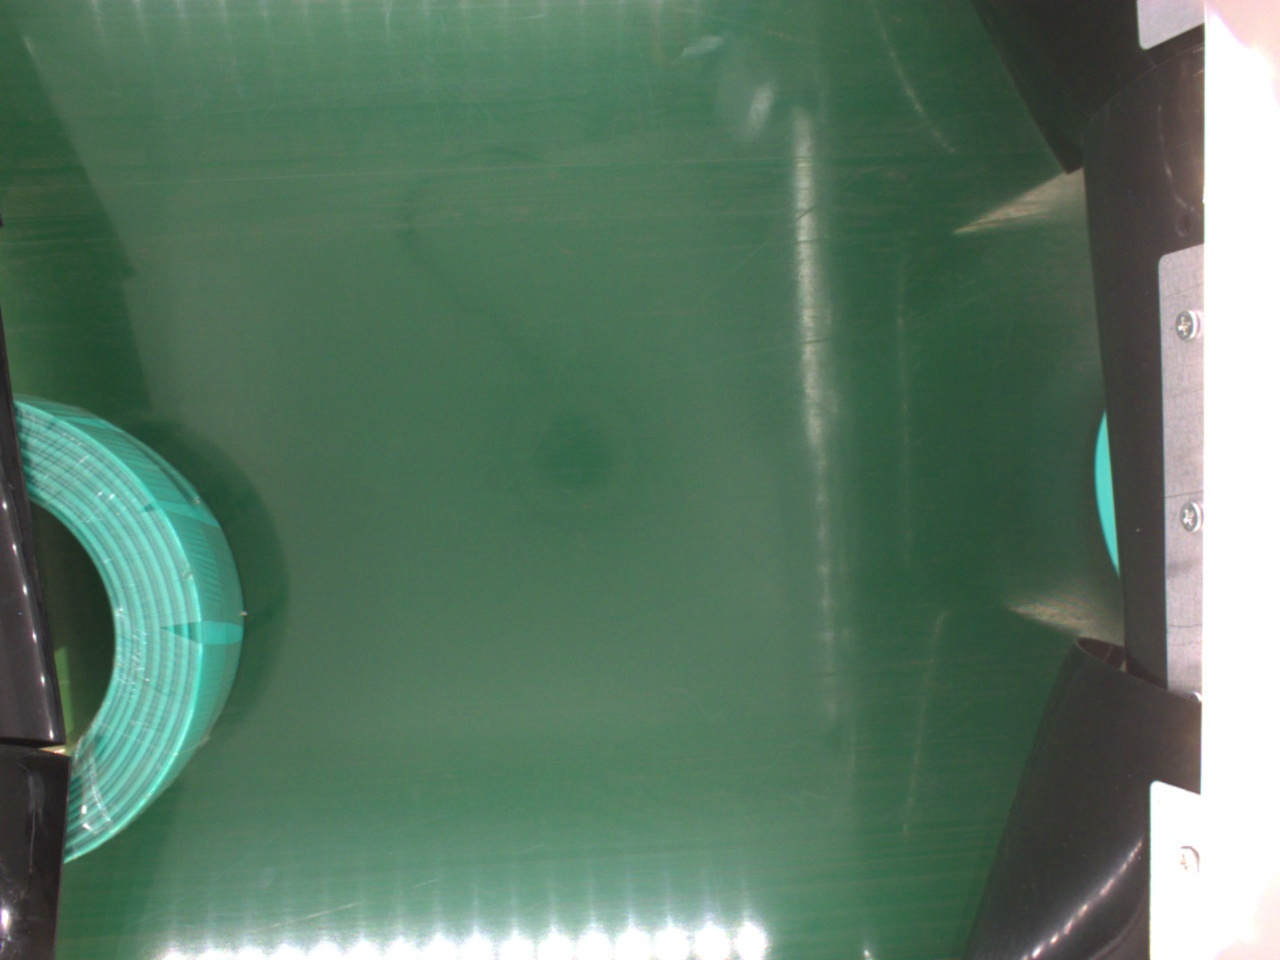green: (10, 389, 239, 859)
